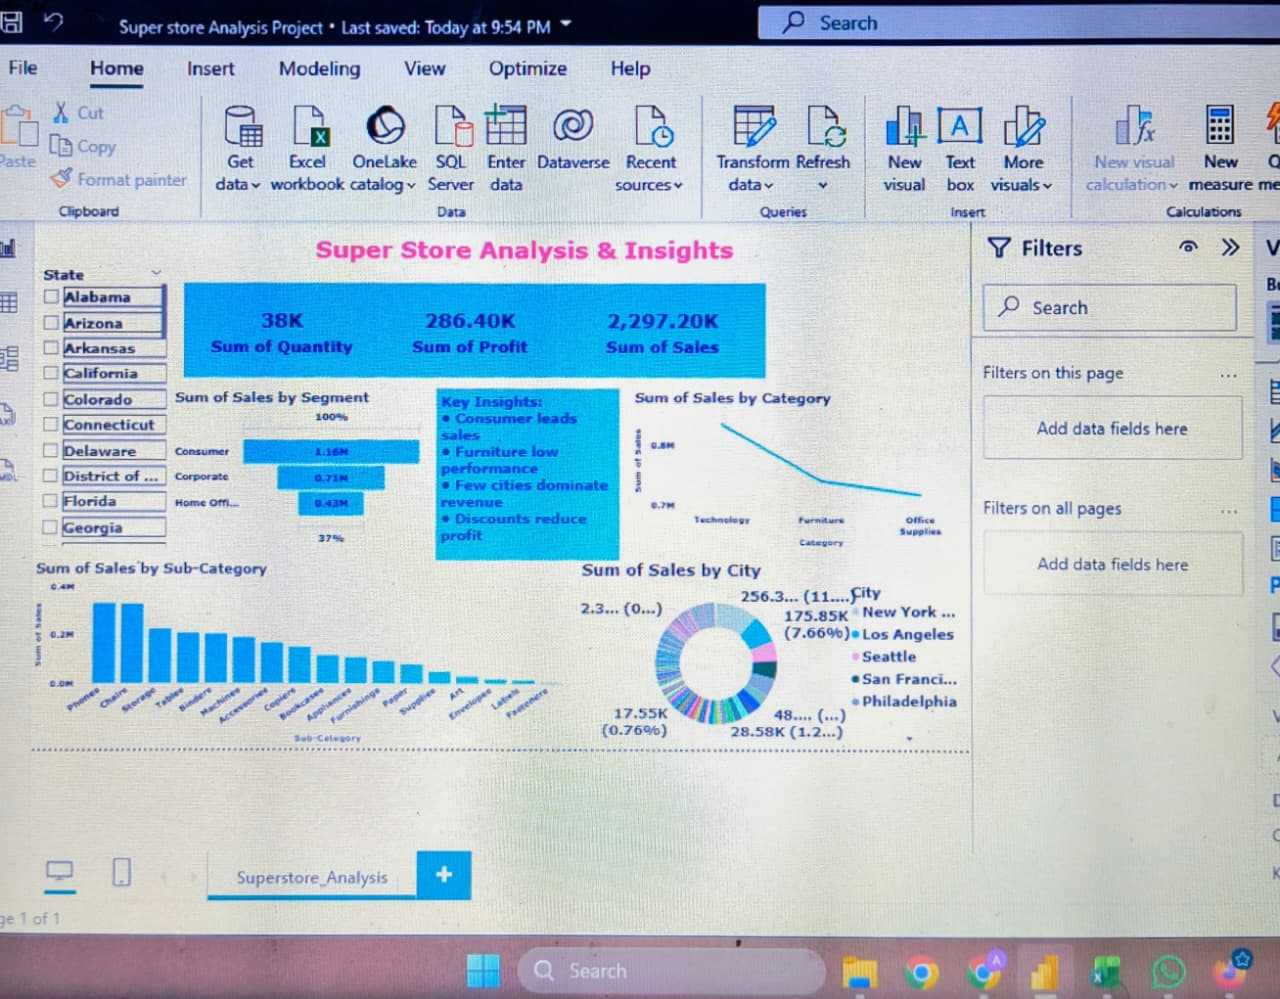

The dashboard page shown, as its layout file describes it:
{"tool":"powerbi","page":{"name":"Superstore_Analysis","canvas":[1280,720],"ordinal":0},"visuals":[{"type":"slicer","fields":{"Values":["Superstore.State"]},"box":[0,56.8,187.5,393.8],"z":0},{"type":"card","fields":{"Values":["Sum(Superstore.Sales)"]},"box":[718.9,85.6,283.4,129.3],"z":1000},{"type":"card","fields":{"Values":["Sum(Superstore.Profit)"]},"box":[473.6,85.6,245.3,129.3],"z":2000},{"type":"card","fields":{"Values":["Sum(Superstore.Quantity)"]},"box":[308.1,281.5,243.4,129.3],"z":3000},{"type":"lineChart","fields":{"Category":["Superstore.Category"],"Y":["Sum(Superstore.Sales)"]},"box":[817.8,230.1,462.2,220.6],"z":4000},{"type":"columnChart","fields":{"Category":["Superstore.Sub-Category"],"Y":["Sum(Superstore.Sales)"]},"box":[0,464.1,745.6,254.9],"z":5000},{"type":"donutChart","fields":{"Category":["Superstore.City"],"Y":["Sum(Superstore.Sales)"]},"box":[745.6,464.1,534.4,254.9],"z":6000},{"type":"funnel","fields":{"Category":["Superstore.Segment"],"Y":["Sum(Superstore.Sales)"]},"box":[188.3,230.1,350,220.6],"z":7000},{"type":"textbox","box":[538,243,150,207],"z":8000},{"type":"textbox","box":[176.9,15.2,989,55.2],"z":9000},{"type":"card","fields":{"Values":["Sum(Superstore.Quantity)"]},"box":[205.4,85.6,268.2,129.3],"z":10000},{"type":"textbox","box":[551.6,230.1,251.1,233.9],"z":11000}]}

Visuals, with their boxes on the page's 1280x720 design canvas (x1, y1, x2, y2). These are canvas units, not pixel positions in the 1280x999 screenshot, which may show the page scaled, cropped or inside an application window:
slicer - Superstore.State: bbox=(0, 57, 188, 451)
card - Sum(Superstore.Sales): bbox=(719, 86, 1002, 215)
card - Sum(Superstore.Profit): bbox=(474, 86, 719, 215)
card - Sum(Superstore.Quantity): bbox=(308, 282, 552, 411)
lineChart - Superstore.Category x Sum(Superstore.Sales): bbox=(818, 230, 1280, 451)
columnChart - Superstore.Sub-Category x Sum(Superstore.Sales): bbox=(0, 464, 746, 719)
donutChart - Superstore.City x Sum(Superstore.Sales): bbox=(746, 464, 1280, 719)
funnel - Superstore.Segment x Sum(Superstore.Sales): bbox=(188, 230, 538, 451)
textbox: bbox=(538, 243, 688, 450)
textbox: bbox=(177, 15, 1166, 70)
card - Sum(Superstore.Quantity): bbox=(205, 86, 474, 215)
textbox: bbox=(552, 230, 803, 464)
